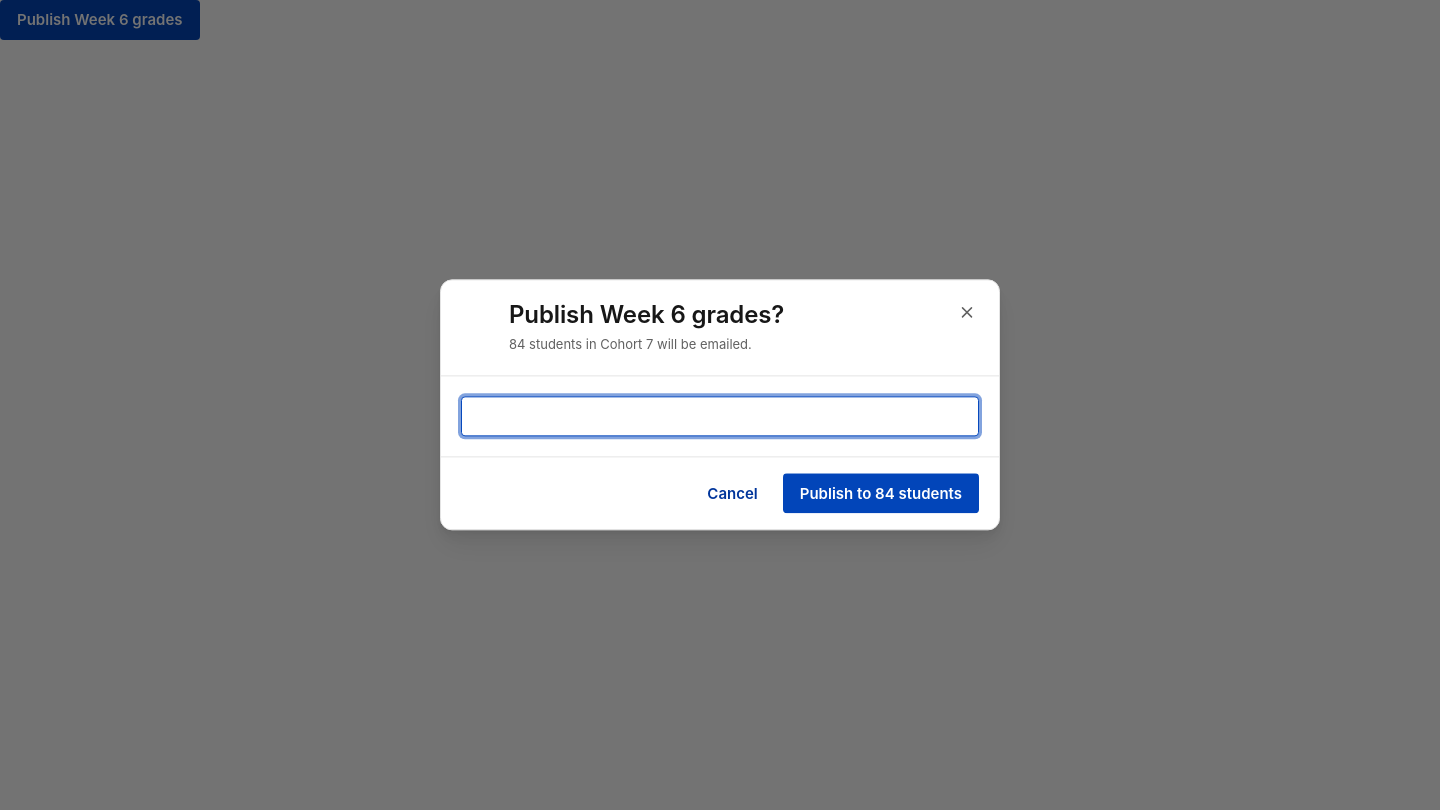
Test: Dialog › showClose draws a named × button that closes
The width and height of the screenshot is (1440, 810).
Click the button named "Close publish dialog" at (967,312), box [951,296,983,328]
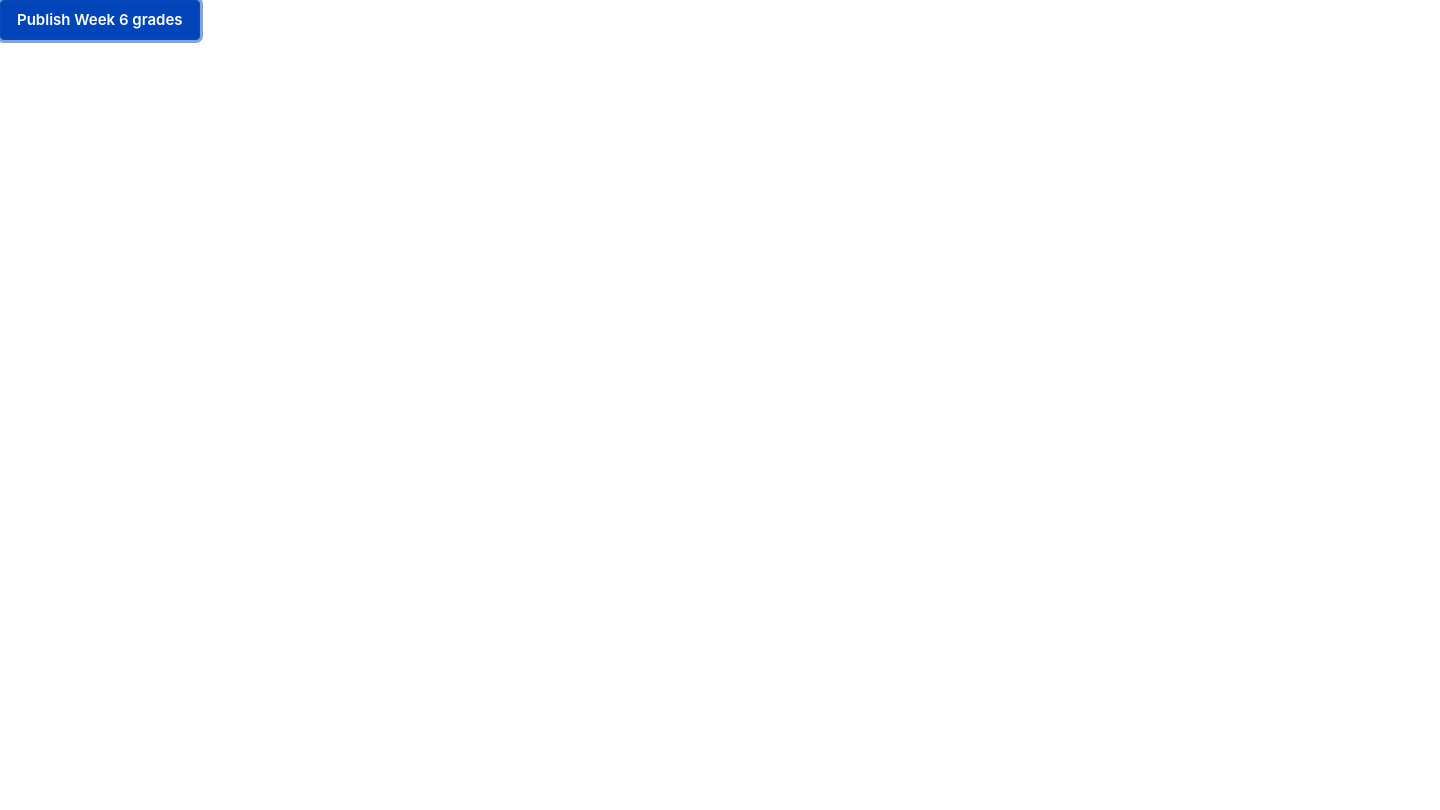
expect the dialog is gone: met
